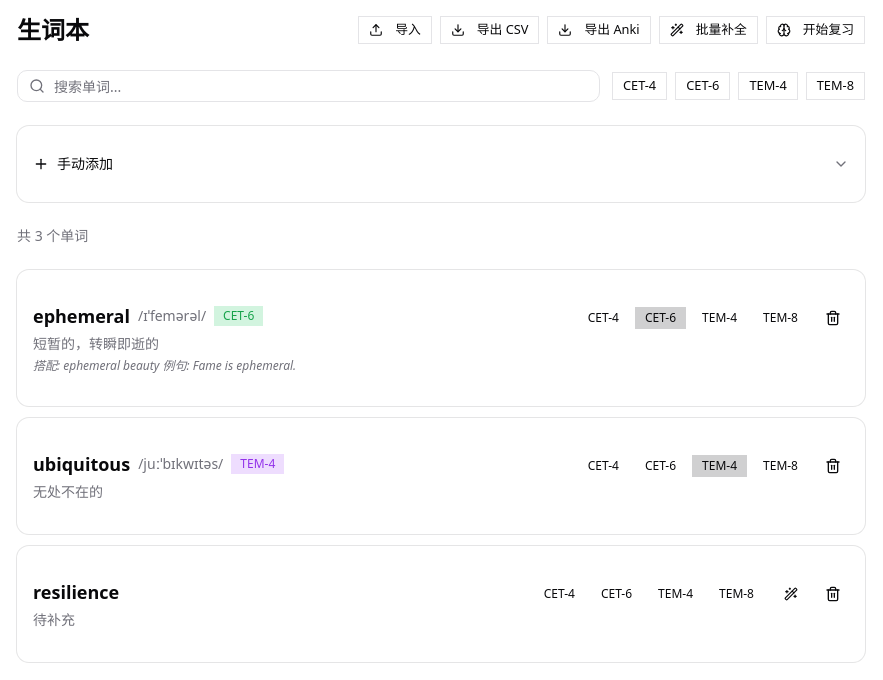
Test case: VocabularyPage › filters words by search input
Expected: the text "ephemeral" is shown, left=33, top=302, right=130, bottom=330
Type "ephem" into the field with placeholder "搜索单词..." at (308, 86), box left=17, top=70, right=600, bottom=102
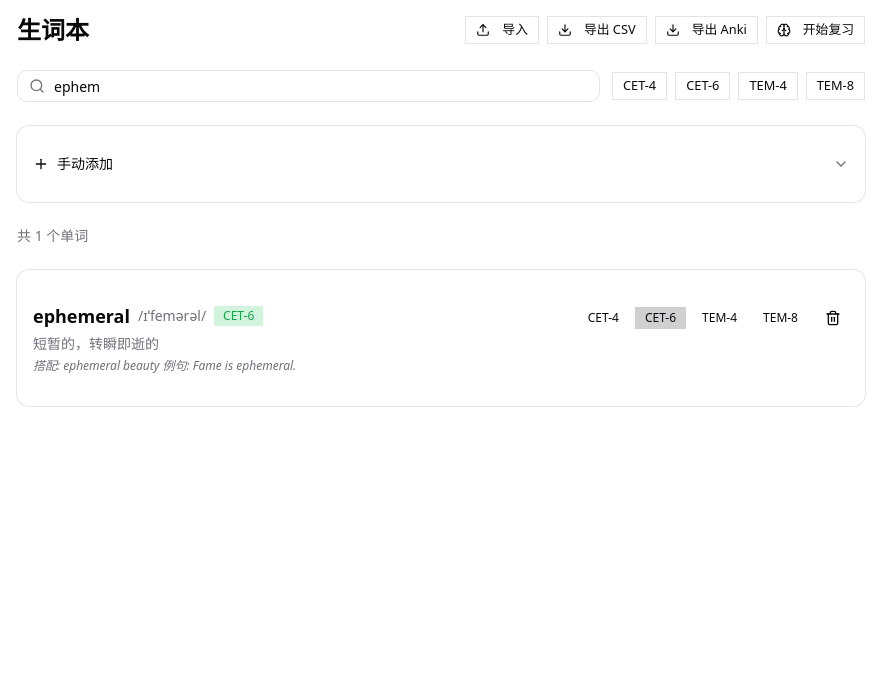
Now the text "ubiquitous" is gone
Now the text "resilience" is gone
Now the text "共 1 个单词" is shown, box left=17, top=226, right=88, bottom=245
